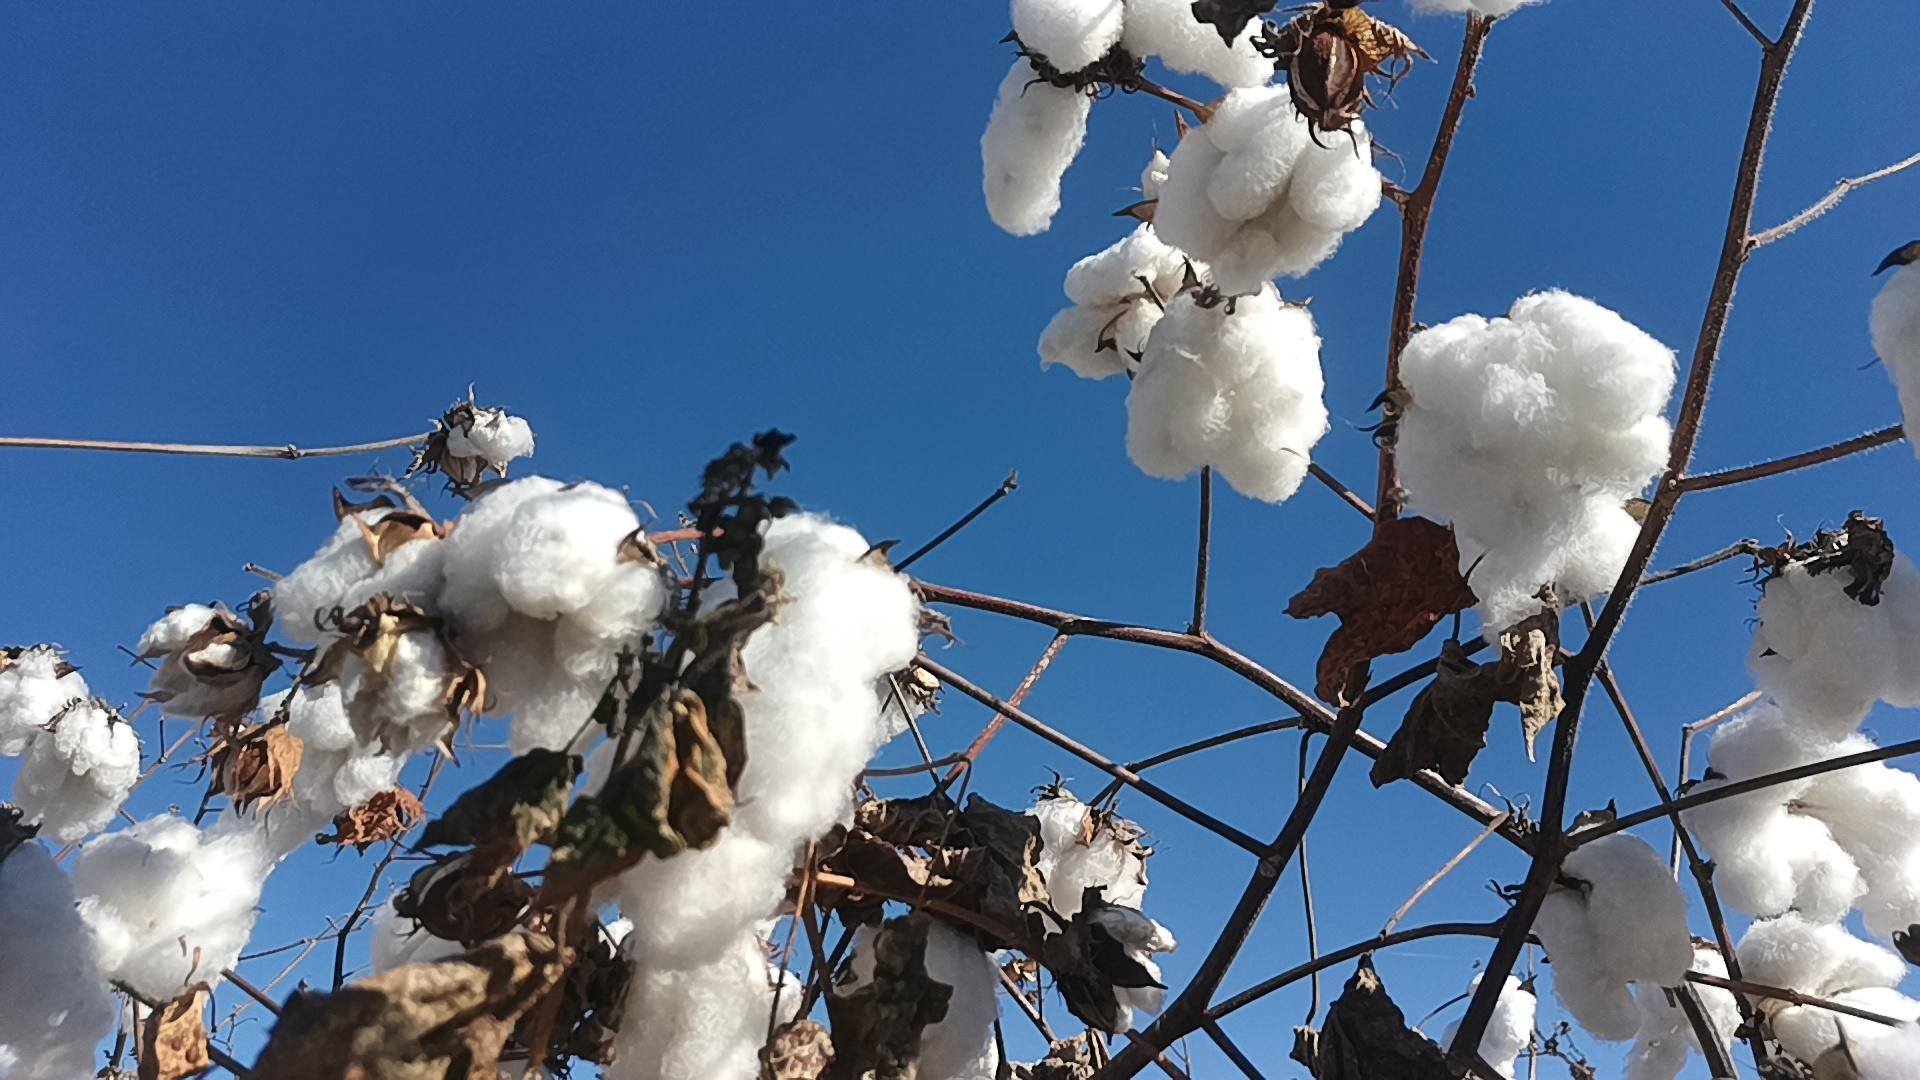cotton_ready: (1391, 291, 1676, 640), (344, 477, 663, 756), (702, 518, 918, 845), (981, 0, 1274, 233), (578, 731, 791, 971), (1151, 83, 1383, 293), (1698, 720, 1920, 931), (1630, 923, 1920, 1080), (1127, 281, 1328, 505), (212, 670, 406, 870), (67, 812, 258, 1006), (1749, 549, 1920, 750), (1540, 820, 1696, 1039), (604, 935, 803, 1080), (1035, 222, 1217, 378), (0, 841, 117, 1080), (841, 915, 1006, 1080), (272, 506, 443, 650), (11, 705, 141, 851), (1712, 807, 1861, 926), (365, 878, 524, 985), (1026, 798, 1150, 924), (330, 629, 451, 750), (132, 605, 248, 711), (1084, 918, 1178, 1036), (1448, 968, 1542, 1080), (0, 646, 88, 761), (1875, 256, 1920, 458), (448, 415, 538, 476)
